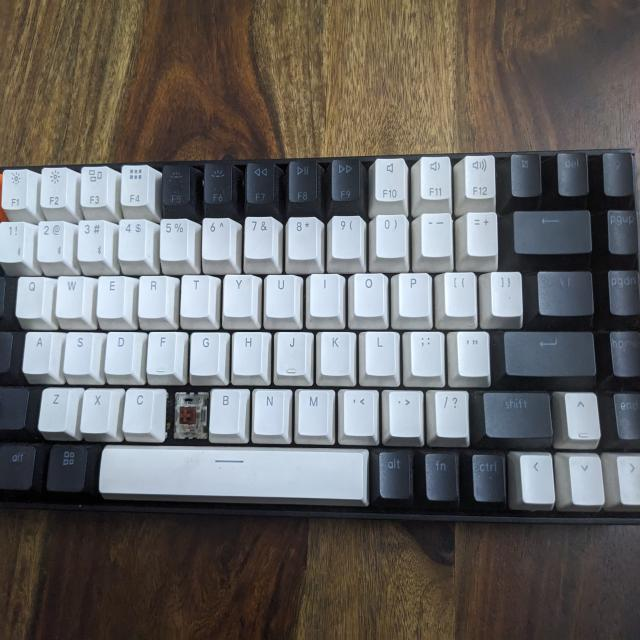C: (172, 390, 207, 440)
